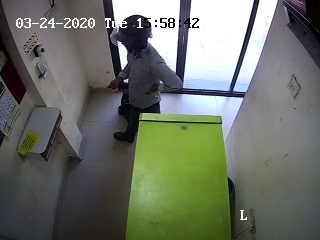helmet: (108, 13, 160, 60)
